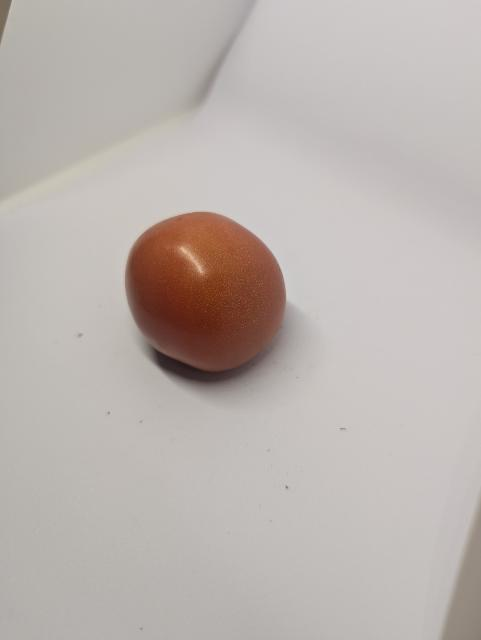red: (122, 210, 289, 375)
